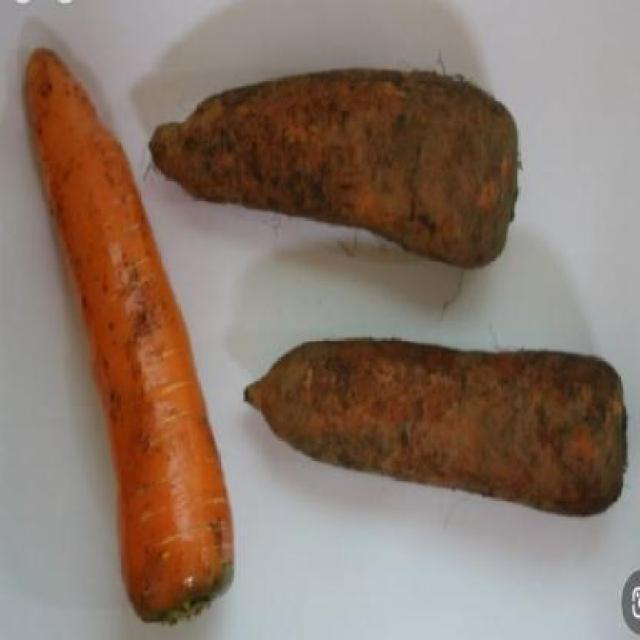carrot: (20, 35, 236, 628), (142, 65, 526, 281), (240, 329, 631, 522)
